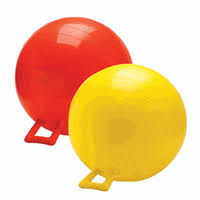buoy: (13, 17, 134, 141)
